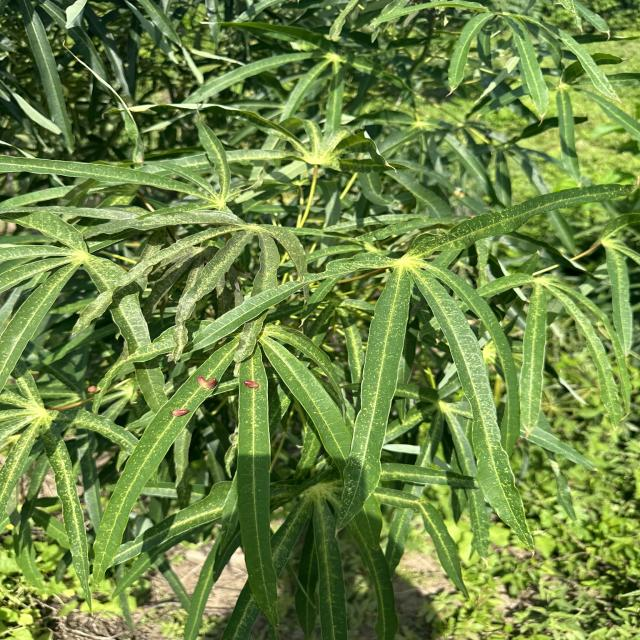Mosca: (176, 358, 228, 399), (220, 368, 267, 406), (152, 398, 202, 429), (86, 378, 125, 401)
